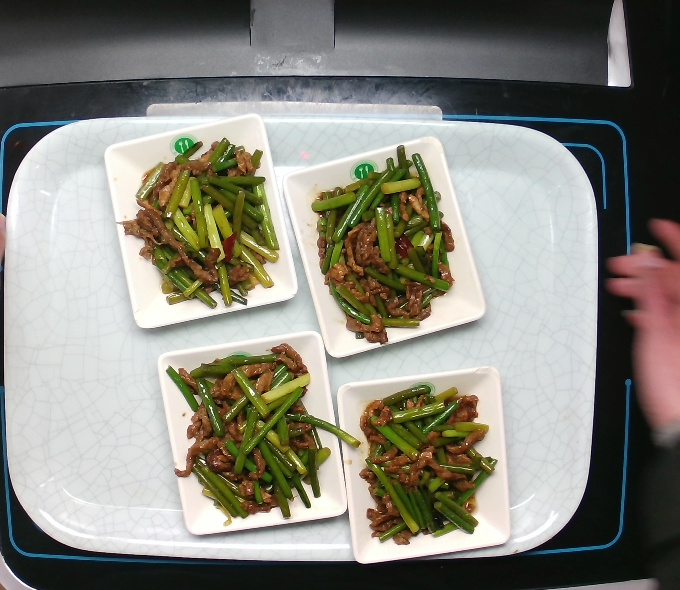wcq-SuanMiaoNiuRou: (162, 341, 363, 524), (308, 142, 459, 348), (114, 135, 283, 312), (356, 381, 499, 547)
